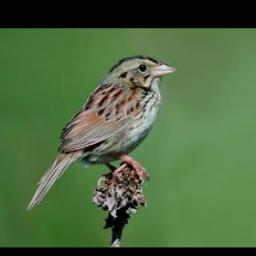Sparrow: (26, 55, 178, 211)
